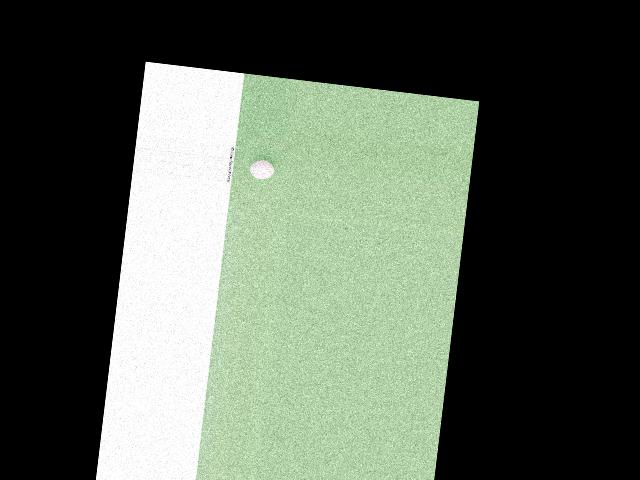egg: (248, 159, 275, 180)
